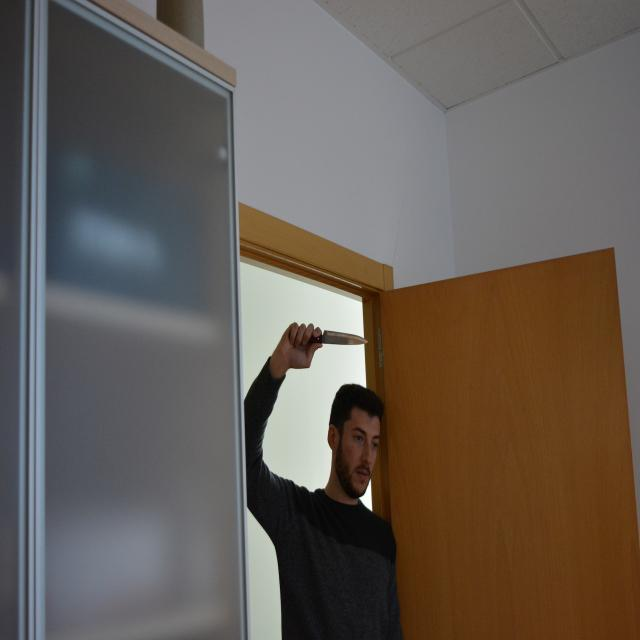knife: (309, 327, 369, 348)
